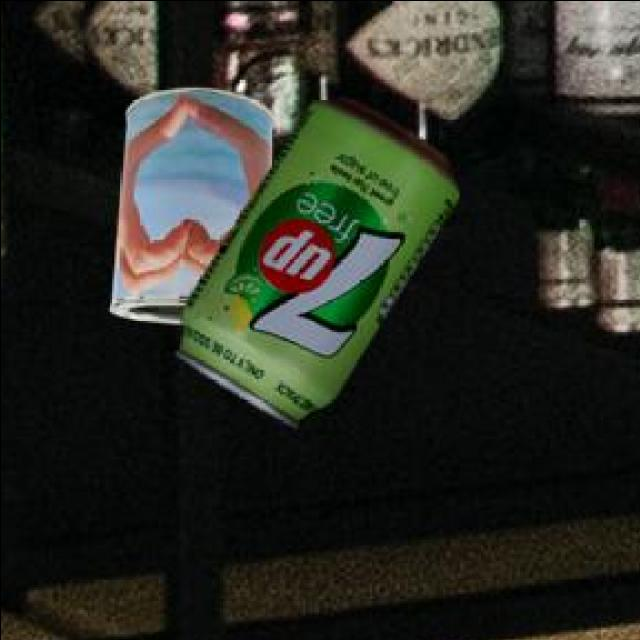logam: (179, 101, 463, 430), (112, 90, 277, 326)
